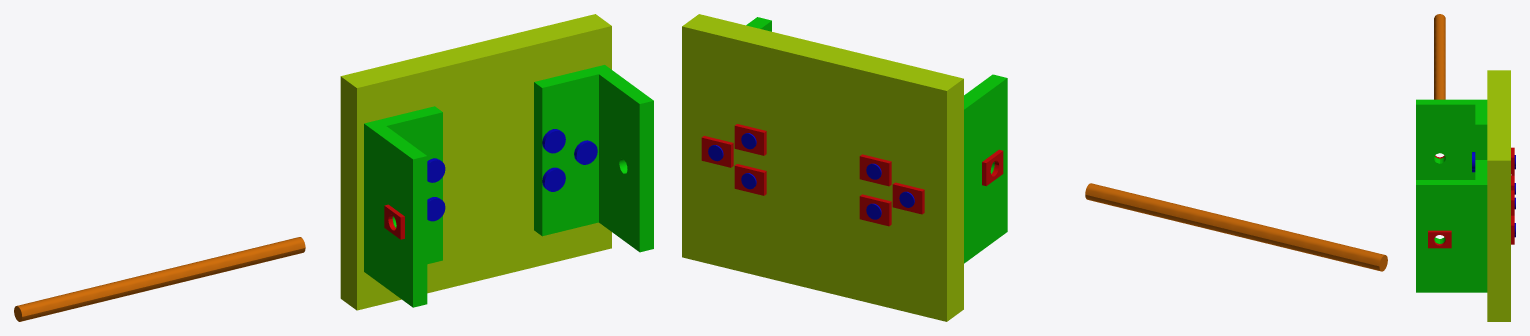
Rendered from test_polygons_animation.dae.
3 views of the same model, side by side, from view 1: azimuth 30°, elevation 25°; view 2: azimuth 150°, elevation 25°; view 3: azimuth 270°, elevation 25° (orthographic). The views are drawn at different scales.
Visible parts, largest first — view 1: nurbsToPoly39, nurbsToPoly129, nurbsToPoly16, nurbsToPoly130, nurbsToPoly42, nurbsToPoly43, nurbsToPoly98, nurbsToPoly30, nurbsToPoly118, nurbsToPoly19, nurbsToPoly97, nurbsToPoly122 (+2 smaller); view 2: nurbsToPoly56, nurbsToPoly16, nurbsToPoly42, nurbsToPoly98, nurbsToPoly43, nurbsToPoly97, nurbsToPoly100, nurbsToPoly131, nurbsToPoly146, nurbsToPoly20, nurbsToPoly8, nurbsToPoly88 (+1 smaller); view 3: nurbsToPoly115, nurbsToPoly31, nurbsToPoly41, nurbsToPoly42, nurbsToPoly98, nurbsToPoly20, nurbsToPoly117, nurbsToPoly23, nurbsToPoly65.
Boxes of the visible parts, x1,y1,x2,y2 form: nurbsToPoly39: (357, 26, 611, 310); nurbsToPoly129: (542, 74, 598, 236); nurbsToPoly16: (364, 124, 412, 307); nurbsToPoly130: (599, 74, 639, 251); nurbsToPoly42: (341, 14, 611, 87); nurbsToPoly43: (340, 76, 356, 310); nurbsToPoly98: (17, 237, 305, 316); nurbsToPoly30: (386, 112, 442, 264); nurbsToPoly118: (639, 100, 653, 252); nurbsToPoly19: (413, 156, 427, 307); nurbsToPoly97: (21, 248, 305, 321); nurbsToPoly122: (534, 82, 542, 235); nurbsToPoly56: (682, 26, 946, 321); nurbsToPoly16: (964, 78, 1007, 263); nurbsToPoly42: (682, 14, 963, 90); nurbsToPoly98: (1085, 183, 1384, 266); nurbsToPoly43: (947, 79, 963, 321); nurbsToPoly97: (1085, 194, 1380, 271); nurbsToPoly100: (892, 184, 922, 214); nurbsToPoly131: (859, 156, 889, 186); nurbsToPoly146: (859, 196, 889, 226); nurbsToPoly20: (964, 74, 1006, 109); nurbsToPoly8: (701, 137, 730, 167); nurbsToPoly88: (734, 126, 763, 155); nurbsToPoly115: (1416, 185, 1487, 292); nurbsToPoly31: (1416, 104, 1475, 179); nurbsToPoly41: (1487, 160, 1510, 321); nurbsToPoly42: (1487, 70, 1510, 160); nurbsToPoly98: (1434, 14, 1445, 99); nurbsToPoly20: (1416, 99, 1487, 124); nurbsToPoly117: (1416, 160, 1487, 184); nurbsToPoly23: (1475, 124, 1487, 159); nurbsToPoly65: (1428, 232, 1451, 248).
Size of the model in its own units: 44.22 by 15 by 8.4.
